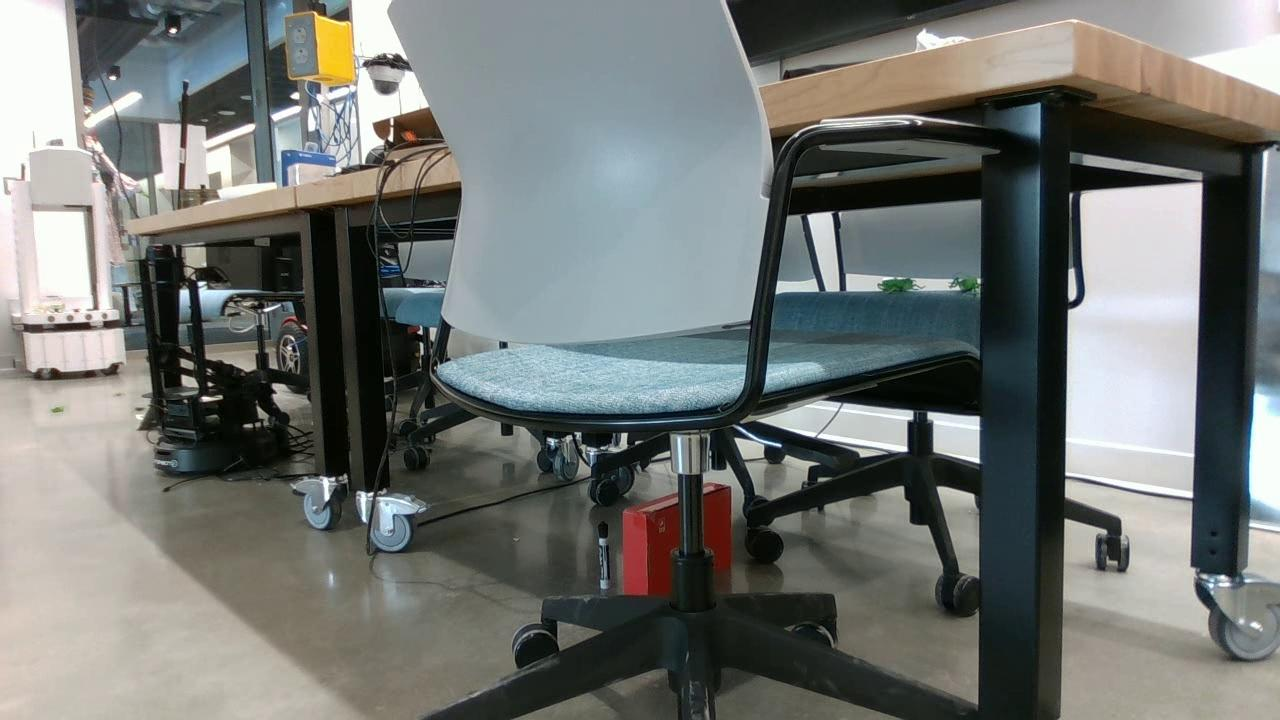grasshopper: (878, 278, 926, 291), (949, 277, 981, 291)
